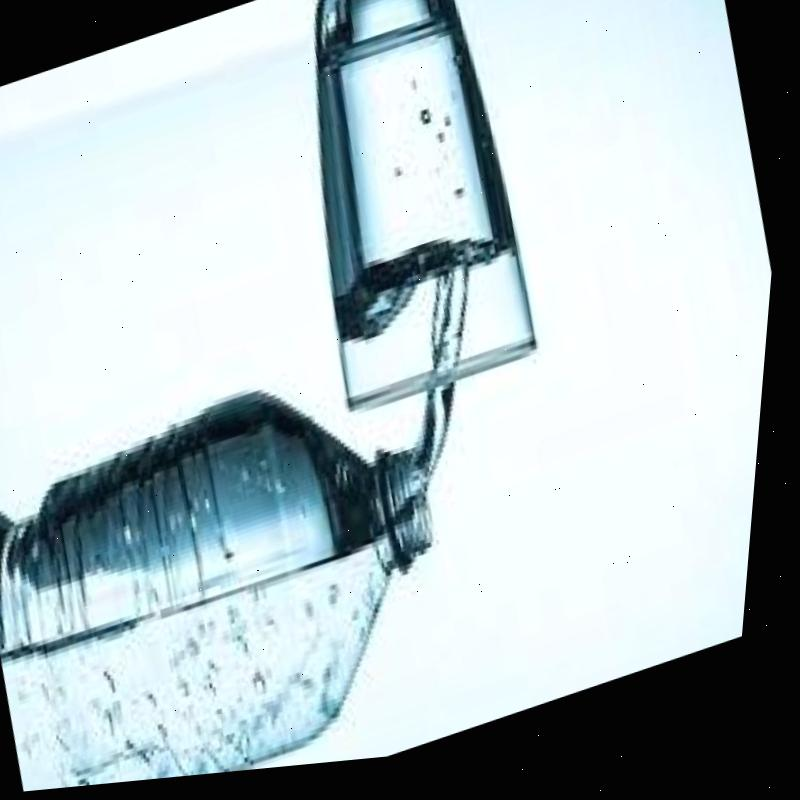botella: (0, 339, 498, 799)
